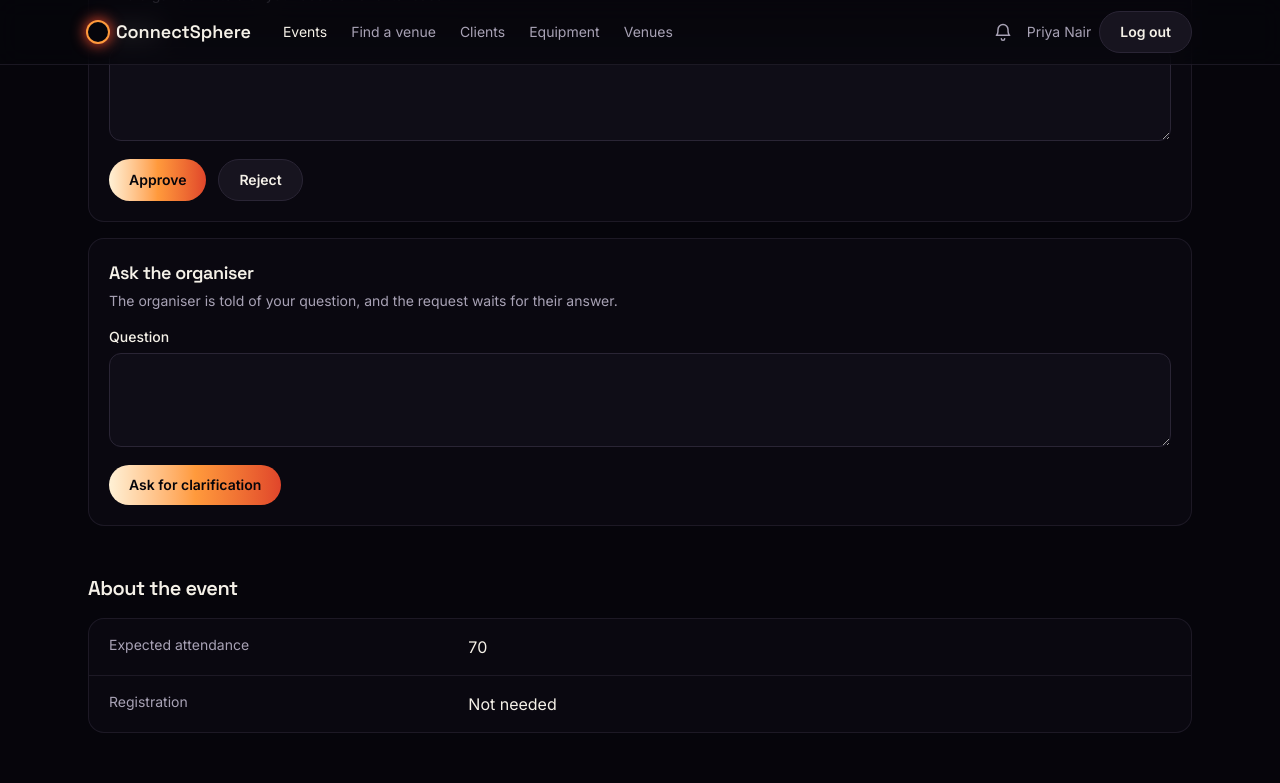
Test case: SCRUM-32 AC1, AC4 asking the organiser a question › shows the backend's refusal above the box
(page scrolled)
Step 1. Type "Is the room step-free?" into the text box labelled "Question" → (640,400), box [109, 353, 1171, 447]
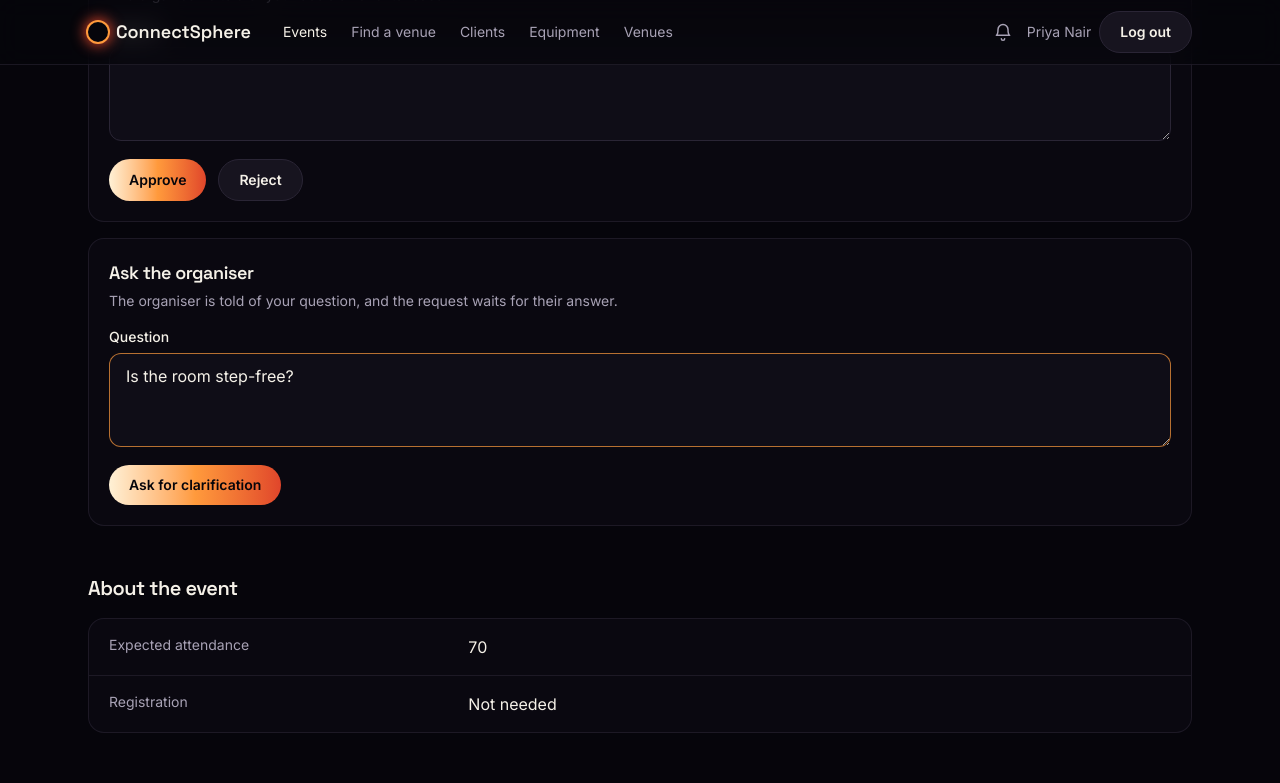
Step 2. Click the button "Ask for clarification" → (195,485), box [109, 465, 281, 505]
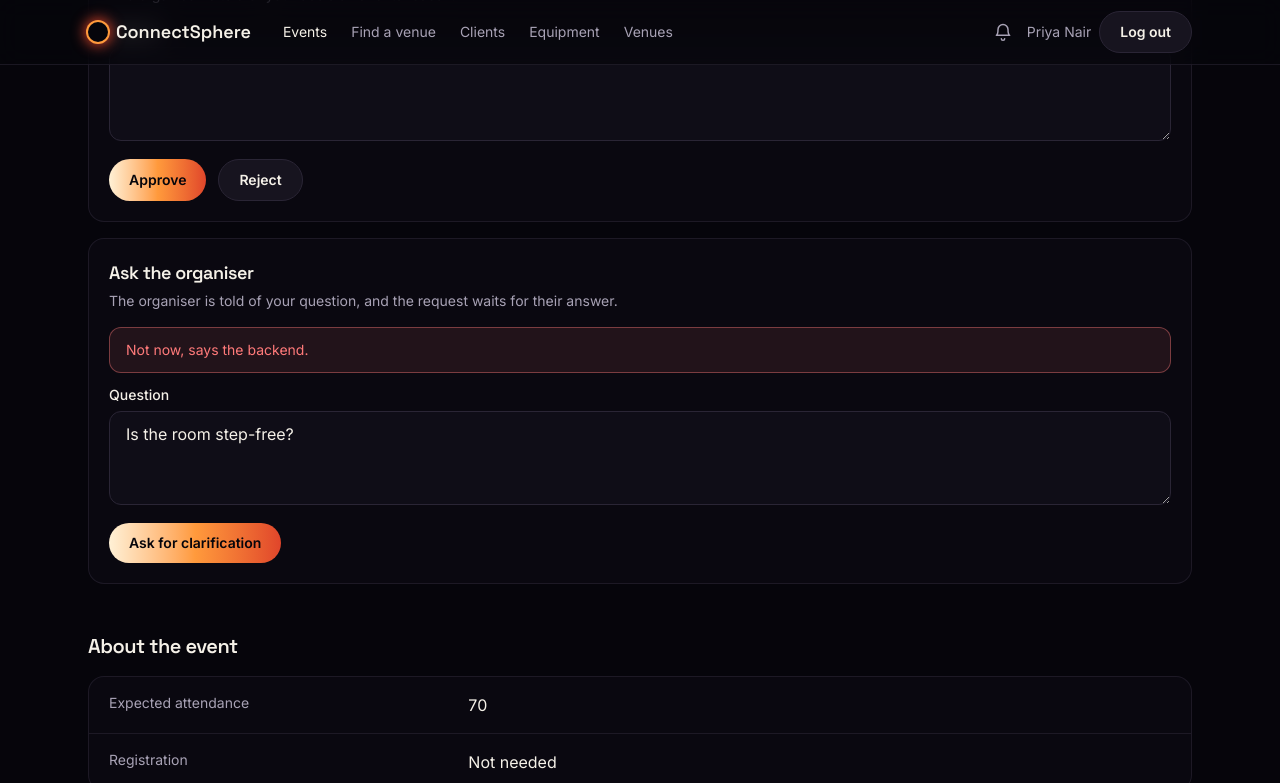
Check: the message reads "Not now, says the backend.", box [126, 341, 308, 358]
